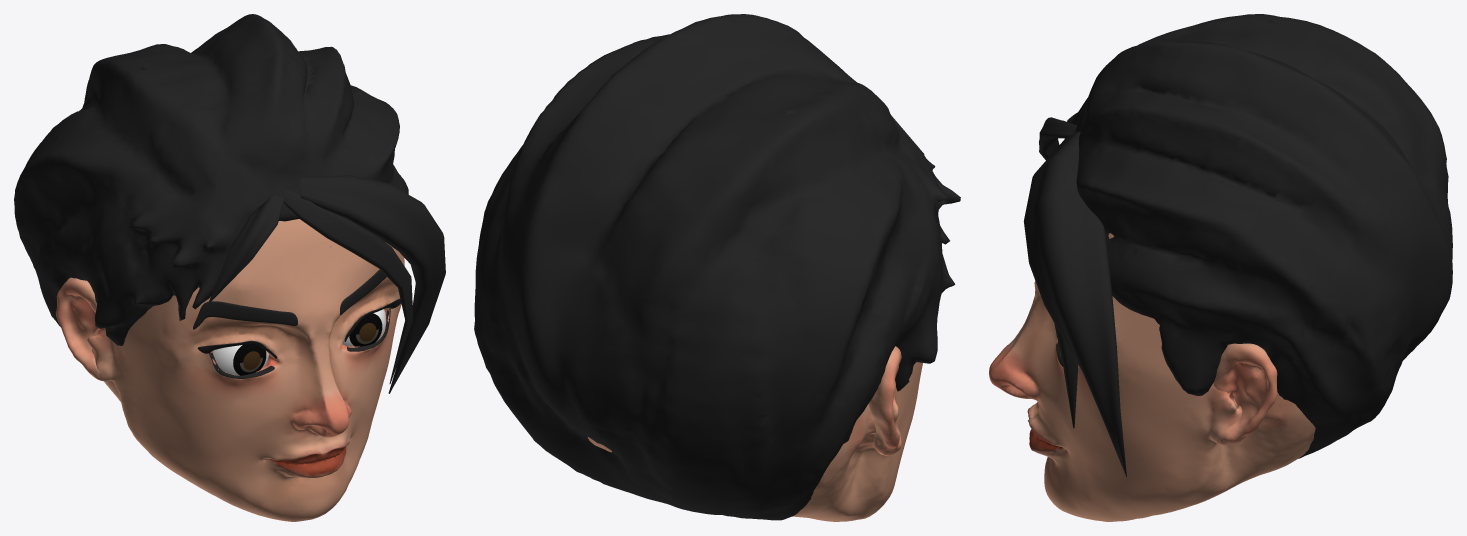
3 renders of one model, left to right at view 1: azimuth 30°, elevation 25°; view 2: azimuth 150°, elevation 25°; view 3: azimuth 270°, elevation 25°, orthographic. The views are drawn at different scales.
Visible parts, largest first — view 1: Cube.001_0, Speed Sculpt face 4 cartoon girl _5, hair_1, Sphere_4, Plane_2, Plane.001_3; view 2: Cube.001_0, Speed Sculpt face 4 cartoon girl _5; view 3: Cube.001_0, Speed Sculpt face 4 cartoon girl _5, hair_1.
Boxes of the visible parts, bbox=[...] form: Cube.001_0: bbox=[14, 14, 408, 345]; Speed Sculpt face 4 cartoon girl _5: bbox=[56, 219, 404, 521]; hair_1: bbox=[209, 175, 445, 393]; Sphere_4: bbox=[213, 309, 385, 375]; Plane_2: bbox=[193, 269, 386, 329]; Plane.001_3: bbox=[197, 298, 401, 378]; Cube.001_0: bbox=[474, 14, 960, 520]; Speed Sculpt face 4 cartoon girl _5: bbox=[587, 346, 922, 521]; Cube.001_0: bbox=[1067, 14, 1452, 458]; Speed Sculpt face 4 cartoon girl _5: bbox=[989, 233, 1315, 521]; hair_1: bbox=[1023, 117, 1126, 477].
Bounding box in the file's own units: 1.69 × 2.14 × 1.87.
